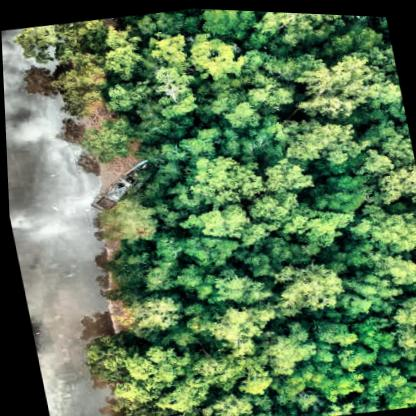tree-top: (288, 48, 394, 117), (264, 251, 346, 324), (277, 104, 363, 161), (250, 314, 318, 381), (189, 150, 262, 209), (236, 226, 320, 277), (46, 57, 108, 122), (356, 194, 416, 260), (207, 296, 273, 354), (334, 264, 400, 318), (182, 27, 243, 85), (300, 165, 371, 214), (256, 9, 350, 46), (105, 291, 177, 339), (73, 118, 140, 168), (280, 203, 357, 245), (188, 342, 254, 390), (145, 61, 200, 118), (356, 358, 416, 410), (96, 19, 149, 77), (125, 340, 186, 390), (226, 44, 287, 92), (14, 21, 78, 66), (175, 227, 245, 267), (208, 262, 270, 307), (257, 148, 311, 199), (99, 195, 158, 241), (149, 372, 210, 416), (77, 331, 129, 382), (238, 71, 296, 115), (342, 310, 394, 355), (130, 6, 191, 43), (98, 247, 150, 290), (189, 199, 246, 238), (200, 7, 263, 42), (245, 185, 298, 225), (142, 28, 191, 69), (102, 76, 153, 115), (311, 364, 362, 403), (269, 371, 318, 411), (372, 158, 416, 201), (172, 124, 223, 160), (372, 246, 416, 284), (106, 376, 152, 409), (202, 388, 253, 416), (386, 285, 416, 329), (313, 322, 356, 350), (230, 366, 267, 395), (383, 128, 414, 162), (354, 149, 395, 174), (231, 98, 260, 128), (394, 322, 416, 357), (152, 404, 208, 416), (112, 401, 152, 416), (339, 12, 385, 21), (411, 362, 416, 401)
